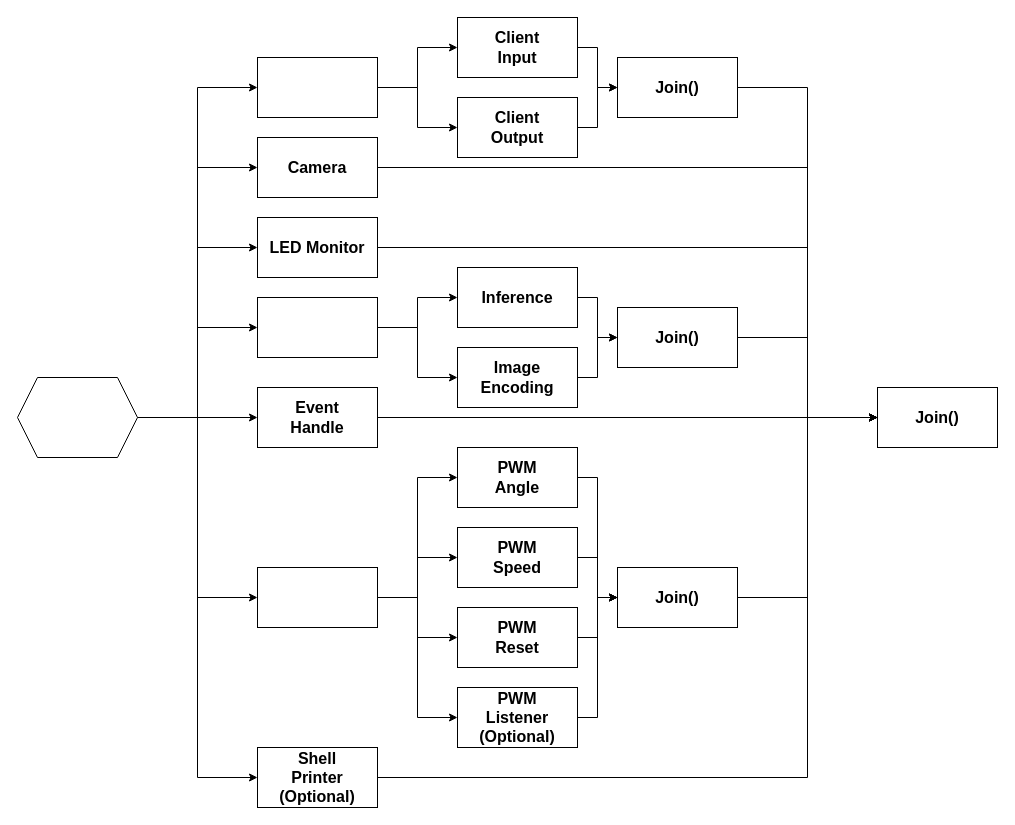
Image size: 1015x825. Some labels were removed from this diagram. The box of each missing label's shape, as (x1, y1, x2, y2) in pixels:
Client Socket handle: (256, 56, 378, 118)
PWM Controller: (256, 566, 378, 628)
Server: (16, 376, 138, 458)
Stream: (256, 296, 378, 358)
